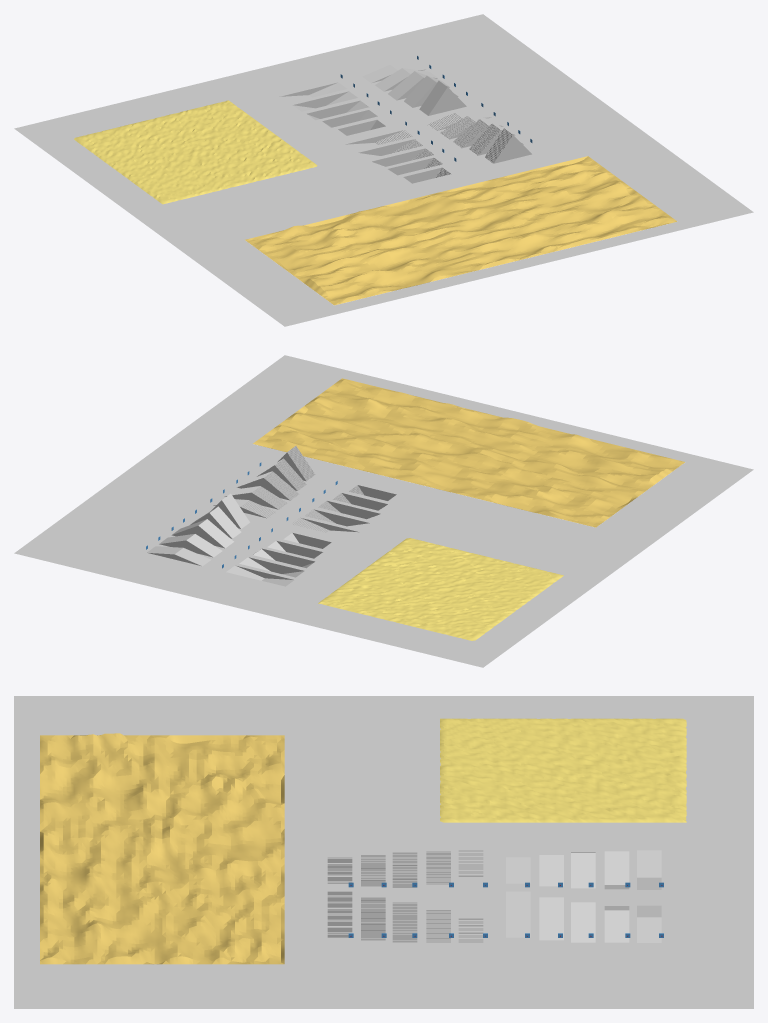
The model's file is tile3.dae.
The picture shows the model from 3 angles, top to bottom: view 1: azimuth 30°, elevation 25°; view 2: azimuth 150°, elevation 25°; view 3: azimuth 270°, elevation 25°; orthographic projection. The views are drawn at different scales.
Parts seen in each view (by area): view 1: Plane.045, Plane.001, Plane.002; view 2: Plane.045, Plane.001, Plane.002; view 3: Plane.045, Plane.001, Plane.002.
Part boxes in pixels (<box>): Plane.045: <box>14,14,753,326</box>; Plane.001: <box>245,156,676,305</box>; Plane.002: <box>74,100,317,204</box>; Plane.045: <box>14,355,753,667</box>; Plane.001: <box>253,378,684,527</box>; Plane.002: <box>318,538,563,640</box>; Plane.045: <box>14,696,753,1008</box>; Plane.001: <box>40,733,284,964</box>; Plane.002: <box>440,718,686,822</box>.
Size of the model in its own units: 300 by 300 by 29.92.
